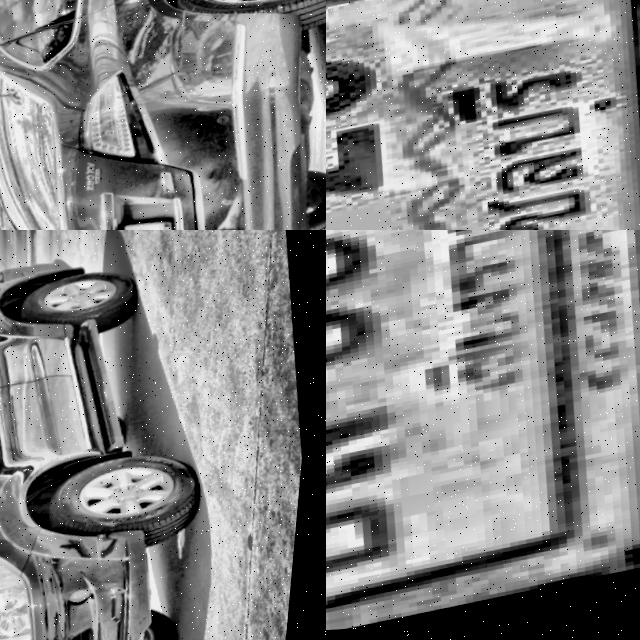license-plate: (326, 230, 640, 640), (326, 0, 640, 230)
